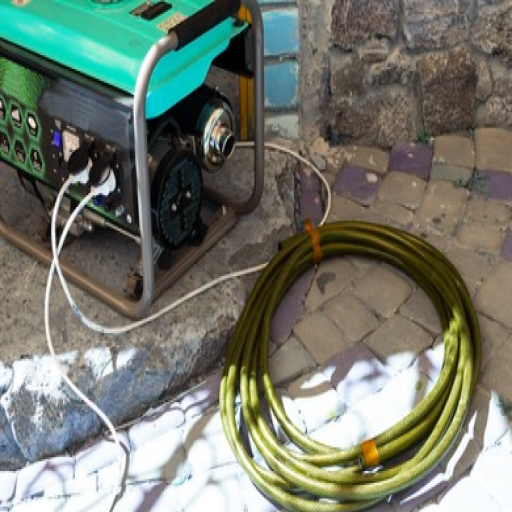portable_generator: (1, 1, 264, 321)
